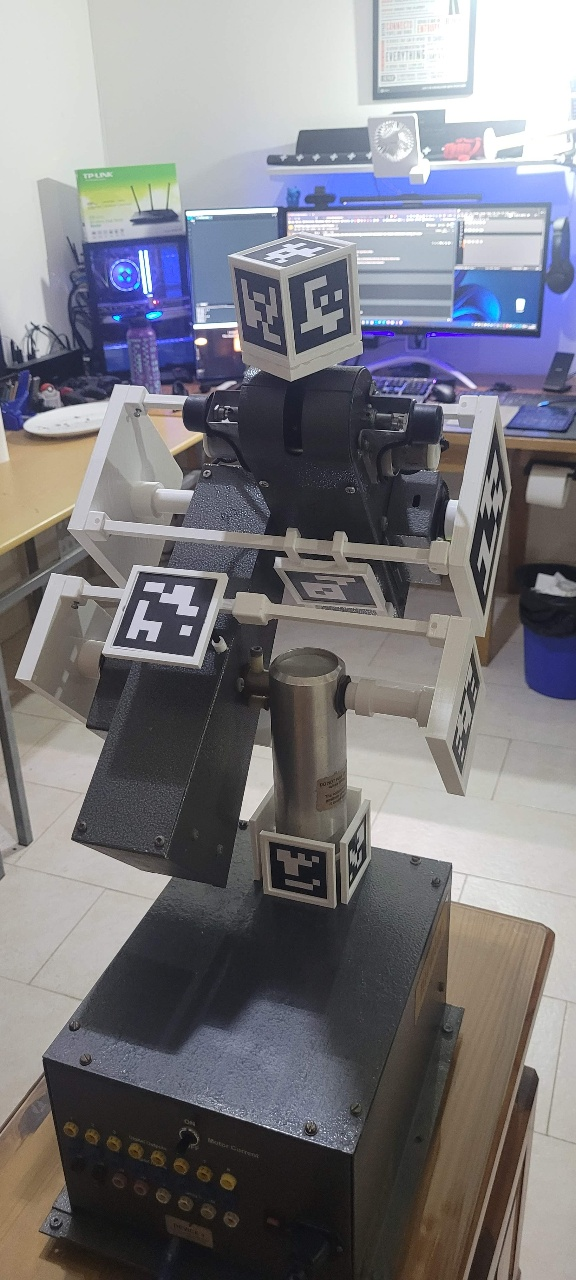Robot: (14, 231, 514, 912)
